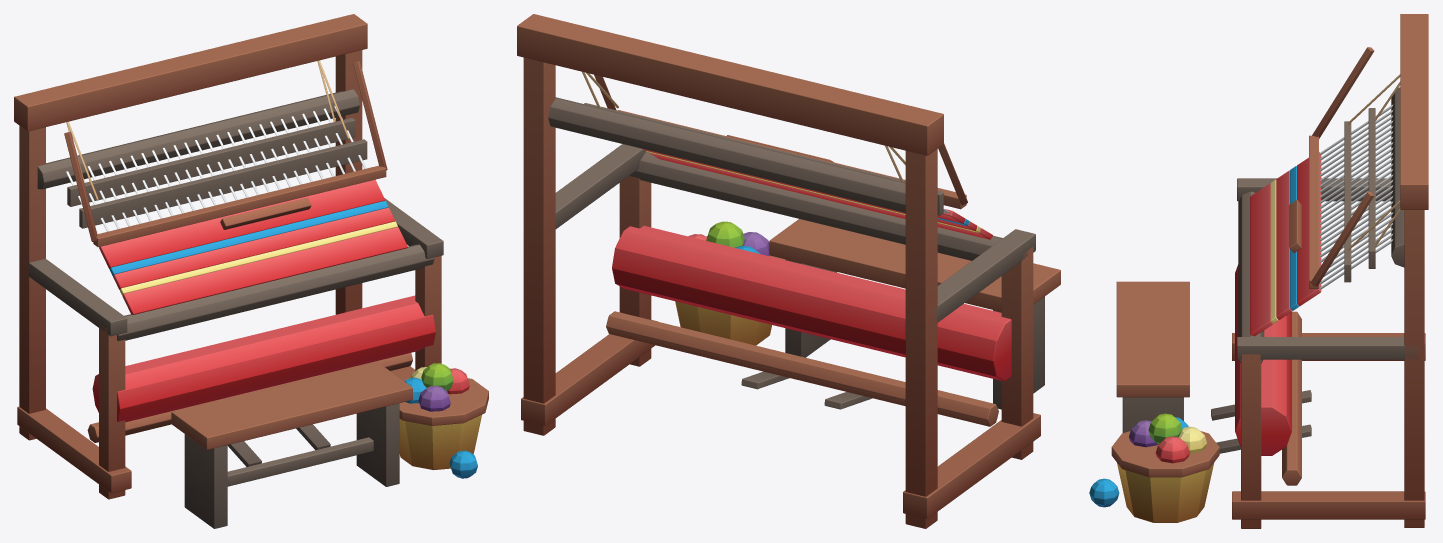
Rendered from loom.glb.
The picture shows the model from 3 angles, left to right: view 1: azimuth 30°, elevation 25°; view 2: azimuth 150°, elevation 25°; view 3: azimuth 270°, elevation 25°; orthographic projection. The views are drawn at different scales.
Visible parts, largest first — view 1: loom; view 2: loom; view 3: loom.
Boxes of the visible parts, bbox=[...] form: loom: bbox=[14, 14, 488, 528]; loom: bbox=[517, 14, 1060, 528]; loom: bbox=[1089, 14, 1428, 528].
Bounding box in the file's own units: 1.98 × 1.88 × 1.66.
1 material, 1 textured.
